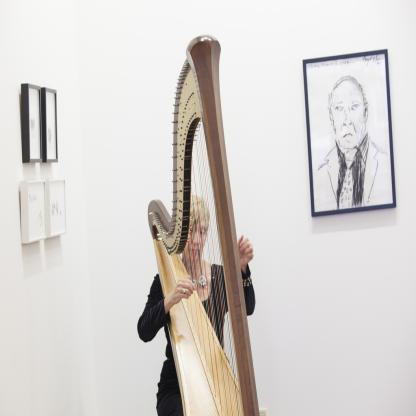picture frame: (317, 21, 401, 183)
